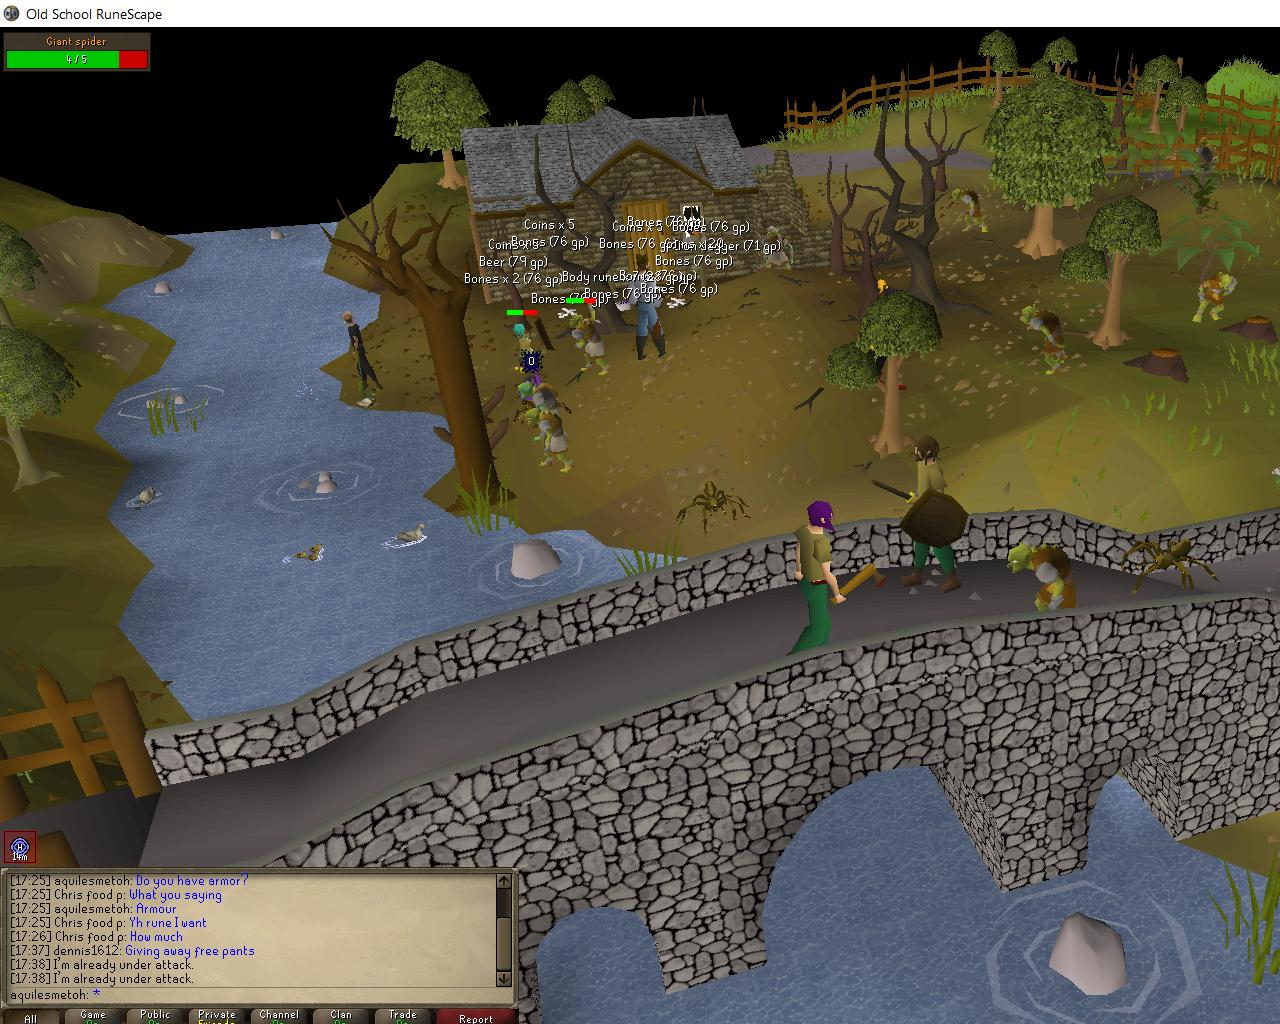Goblin: (1004, 542, 1084, 619), (1019, 305, 1068, 376), (525, 408, 576, 473), (517, 382, 569, 443), (567, 315, 614, 377), (1191, 272, 1240, 324), (951, 186, 992, 233)
